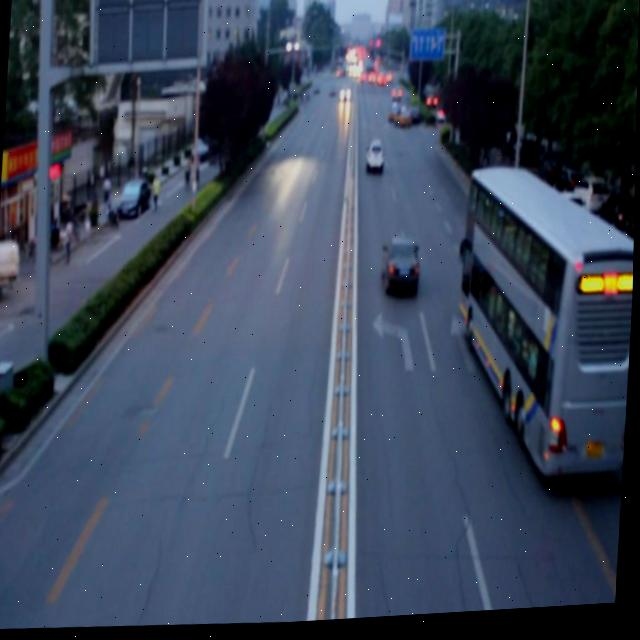car: (379, 237, 421, 302)
van: (453, 162, 637, 495)
